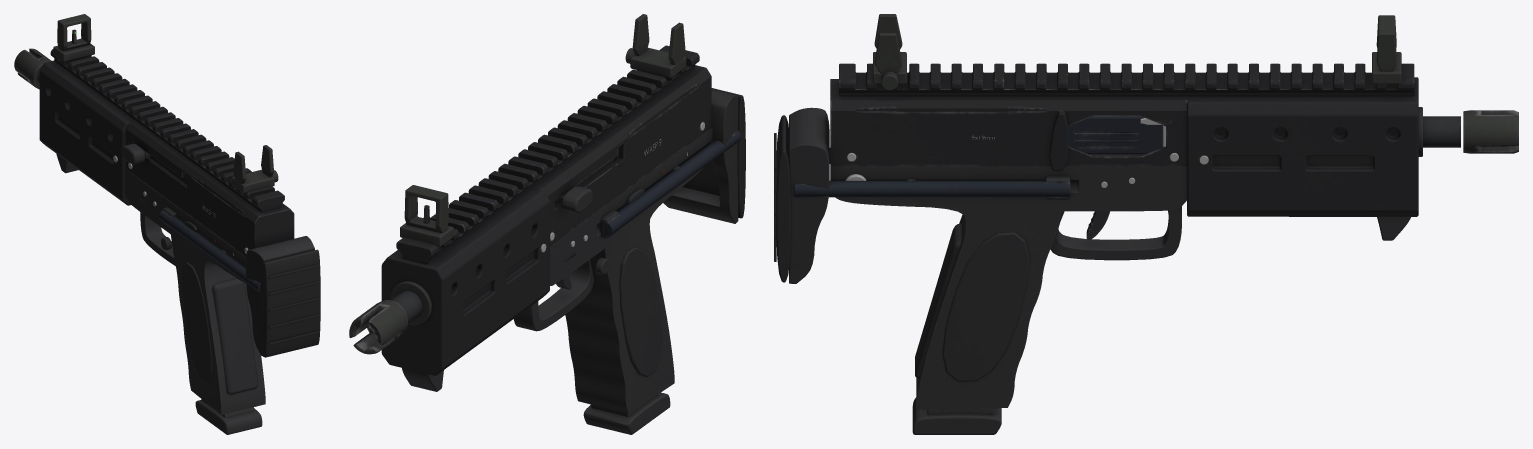
The model's file is smg.glb.
3 renders of one model, left to right at view 1: azimuth 30°, elevation 25°; view 2: azimuth 150°, elevation 25°; view 3: azimuth 270°, elevation 25°, orthographic. The views are drawn at different scales.
Visible parts, largest first — view 1: body, mag; view 2: body, mag; view 3: body, slide, mag.
Boxes of the visible parts, x1,y1,x2,y2 form: body: (14, 14, 320, 414); mag: (195, 399, 262, 434); body: (349, 14, 745, 413); mag: (583, 392, 670, 434); body: (774, 14, 1518, 409); slide: (1068, 116, 1165, 154); mag: (912, 397, 1001, 434).
Size of the model in its own units: 0.0484 by 0.2075 by 0.3507.
14 materials, 14 textured.
